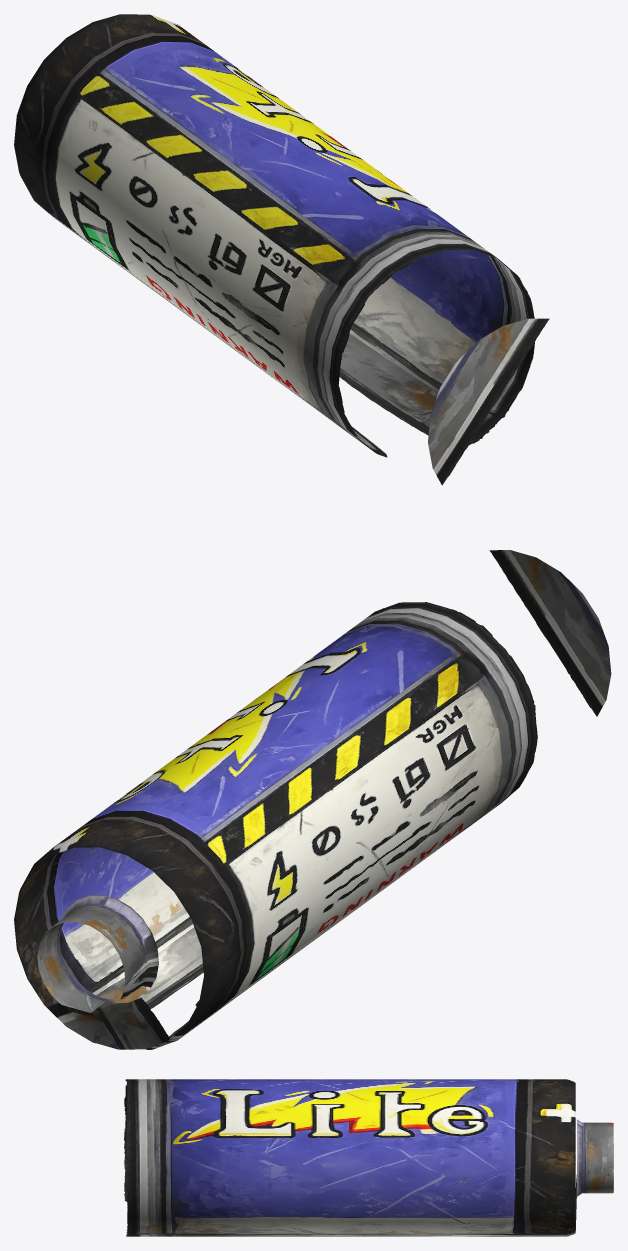
File: battery.fbx
The picture shows the model from 3 angles, top to bottom: view 1: azimuth 30°, elevation 25°; view 2: azimuth 150°, elevation 25°; view 3: azimuth 270°, elevation 25°; orthographic projection. The views are drawn at different scales.
Visible parts, largest first — view 1: hands.004; view 2: hands.004; view 3: hands.004.
Boxes of the visible parts, x1,y1,x2,y2 form: hands.004: (14, 14, 549, 485); hands.004: (14, 550, 611, 1049); hands.004: (124, 1079, 613, 1236).
Bounding box in the file's own units: 5.6 × 5.58 × 21.37.
